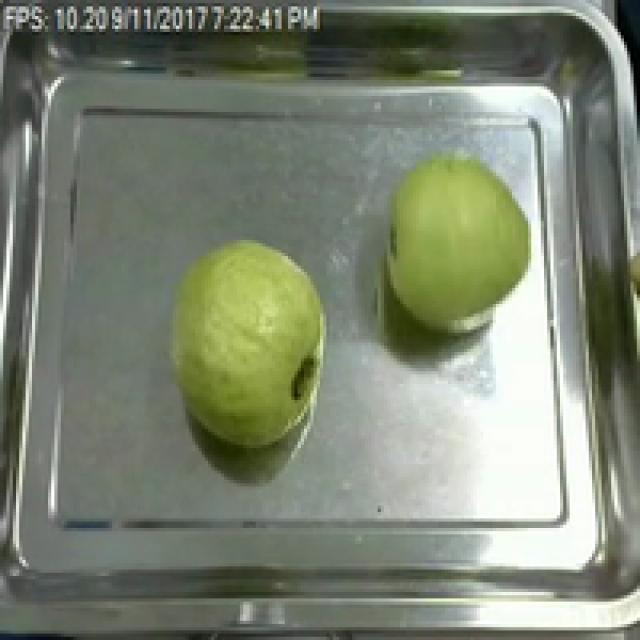Fruit: (157, 230, 336, 454), (374, 144, 544, 342)
